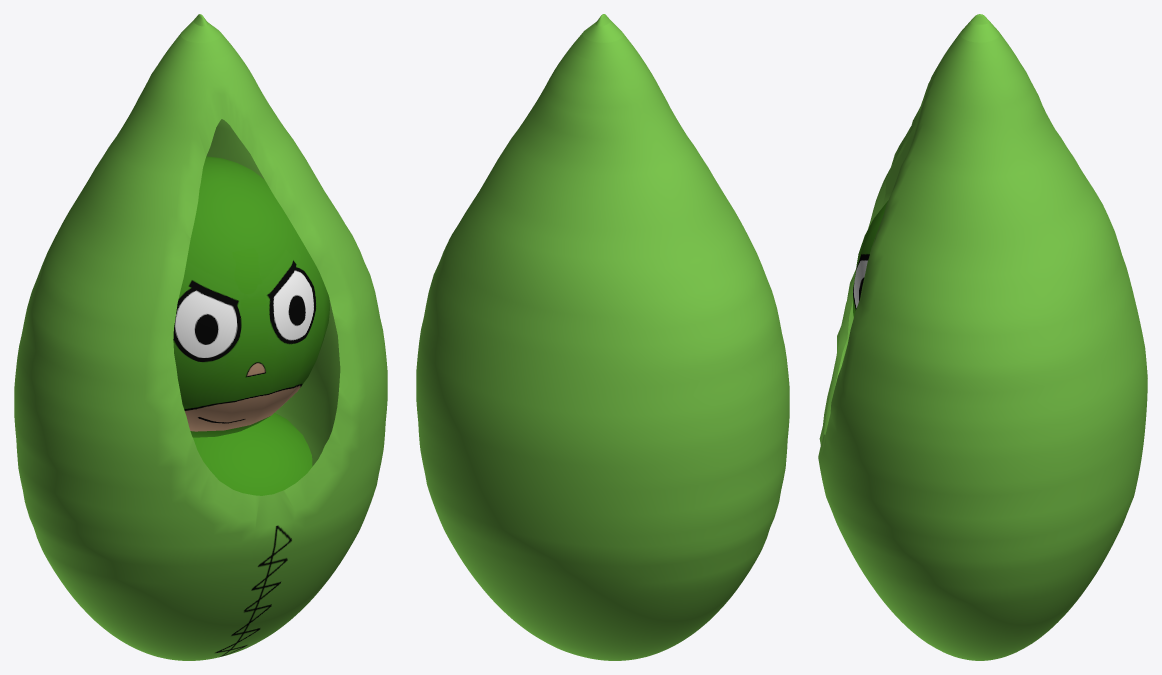
Rendered from Frijolito.obj.
3 renders of one model, left to right at view 1: azimuth 30°, elevation 25°; view 2: azimuth 150°, elevation 25°; view 3: azimuth 270°, elevation 25°, orthographic.
Visible parts, largest first — view 1: polySurface64 polySurface58 polySurface82, polySurface64 polySurface58 polySurface122, polySurface64 polySurface58 polySurface81, polySurface83 polySurface64 polySurface58; view 2: polySurface64 polySurface58 polySurface82; view 3: polySurface64 polySurface58 polySurface82, polySurface64 polySurface58 polySurface122, polySurface83 polySurface64 polySurface58.
Boxes of the visible parts, x1,y1,x2,y2 form: polySurface64 polySurface58 polySurface82: (14,14,387,660); polySurface64 polySurface58 polySurface122: (173,156,329,437); polySurface64 polySurface58 polySurface81: (193,413,312,495); polySurface83 polySurface64 polySurface58: (206,119,340,466); polySurface64 polySurface58 polySurface82: (416,14,789,660); polySurface64 polySurface58 polySurface82: (818,14,1147,660); polySurface64 polySurface58 polySurface122: (853,200,888,317); polySurface83 polySurface64 polySurface58: (835,125,915,385).
Bounding box in the file's own units: 3.49 × 6.39 × 3.01.
